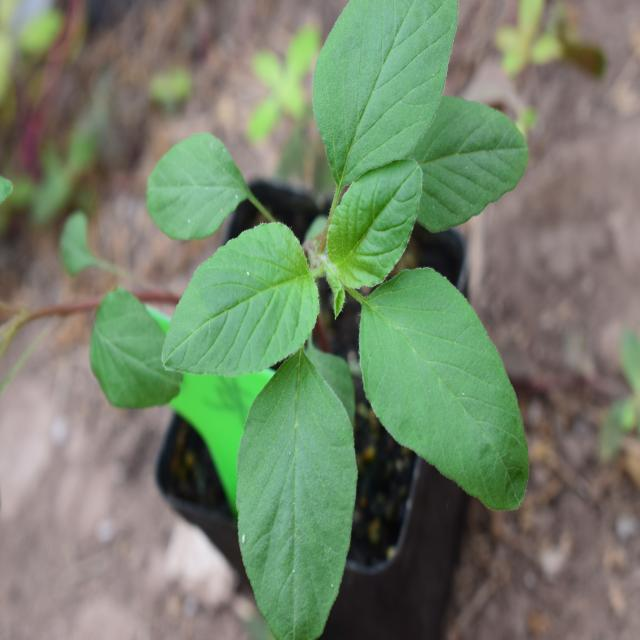pigweed: (171, 0, 543, 569)
